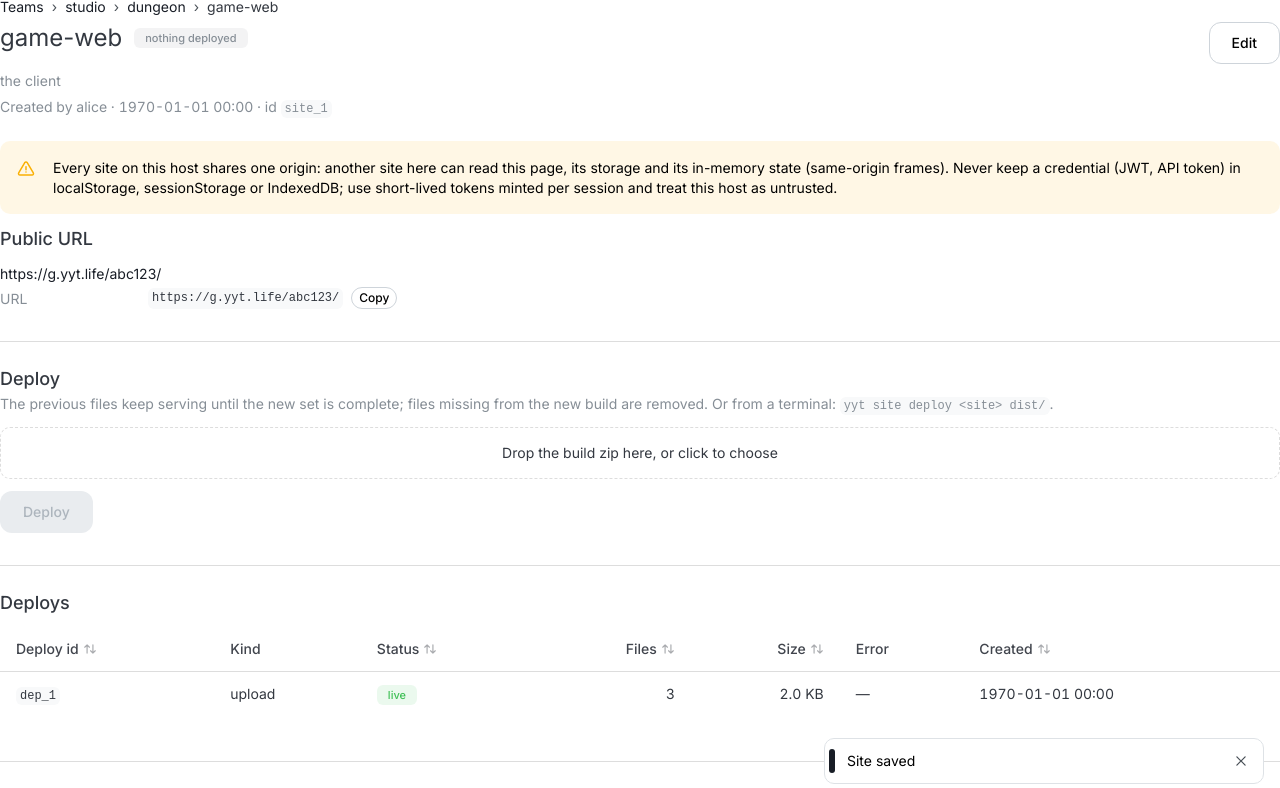
Test: SitePage › deletes from the drawer danger zone after a confirmation and returns to the project's sites
Click the button "Edit" at (1244, 43), box [1209, 22, 1279, 64]
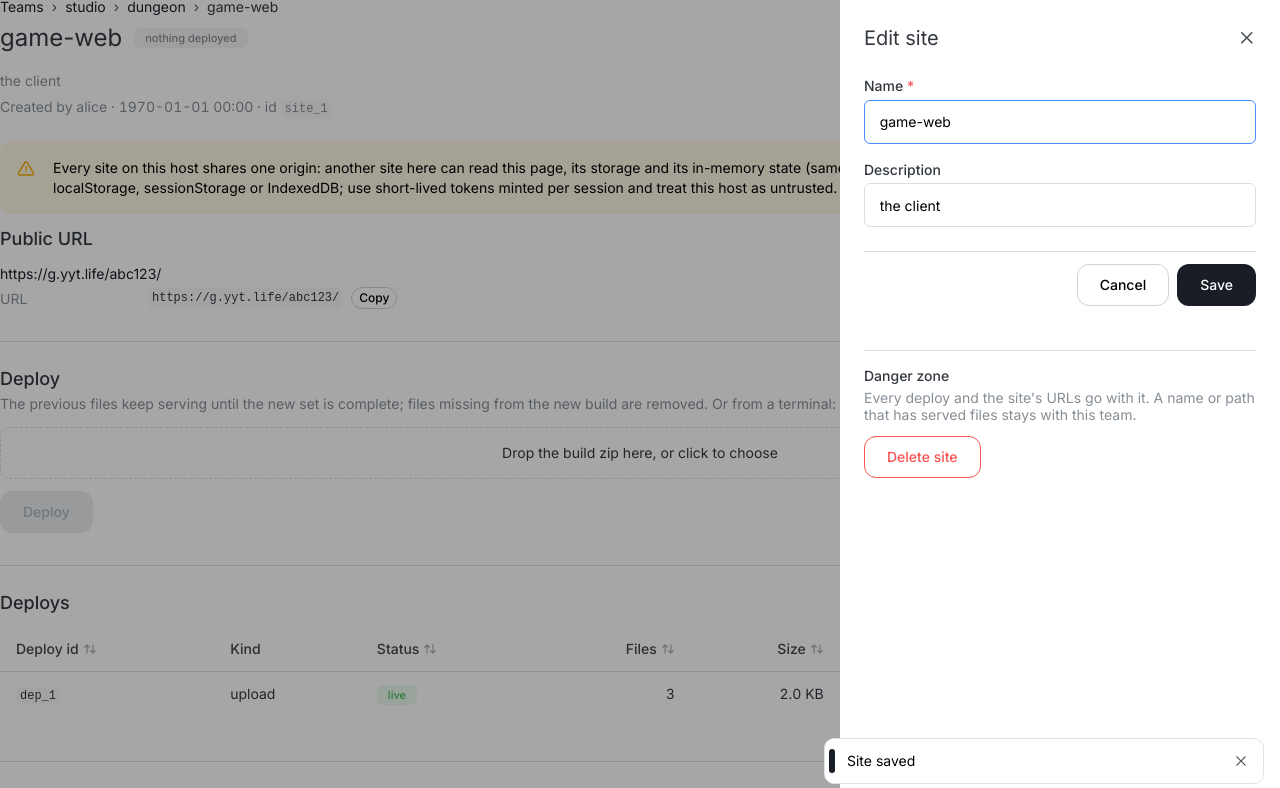
Click the button "Delete site" at (922, 457), box [864, 436, 981, 478]
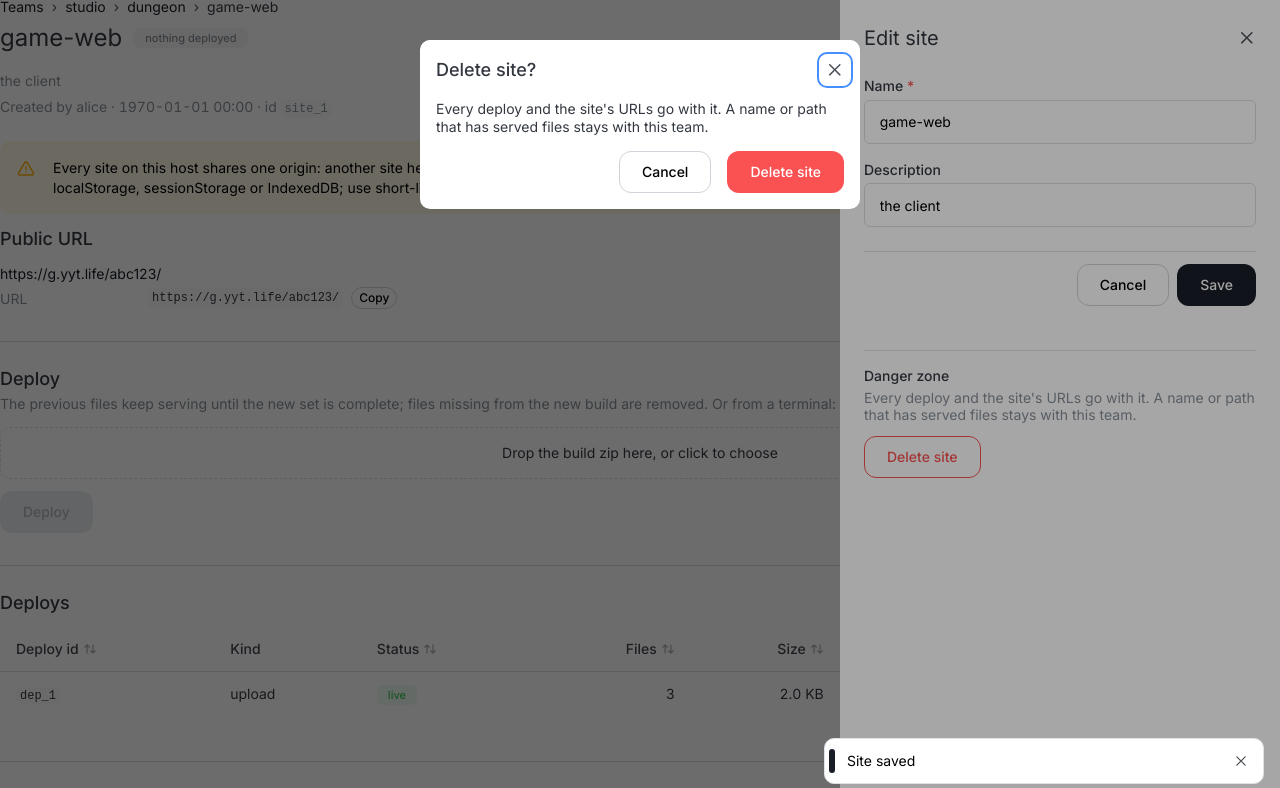
Click the button "Delete site" at (786, 172), box [727, 151, 844, 193]
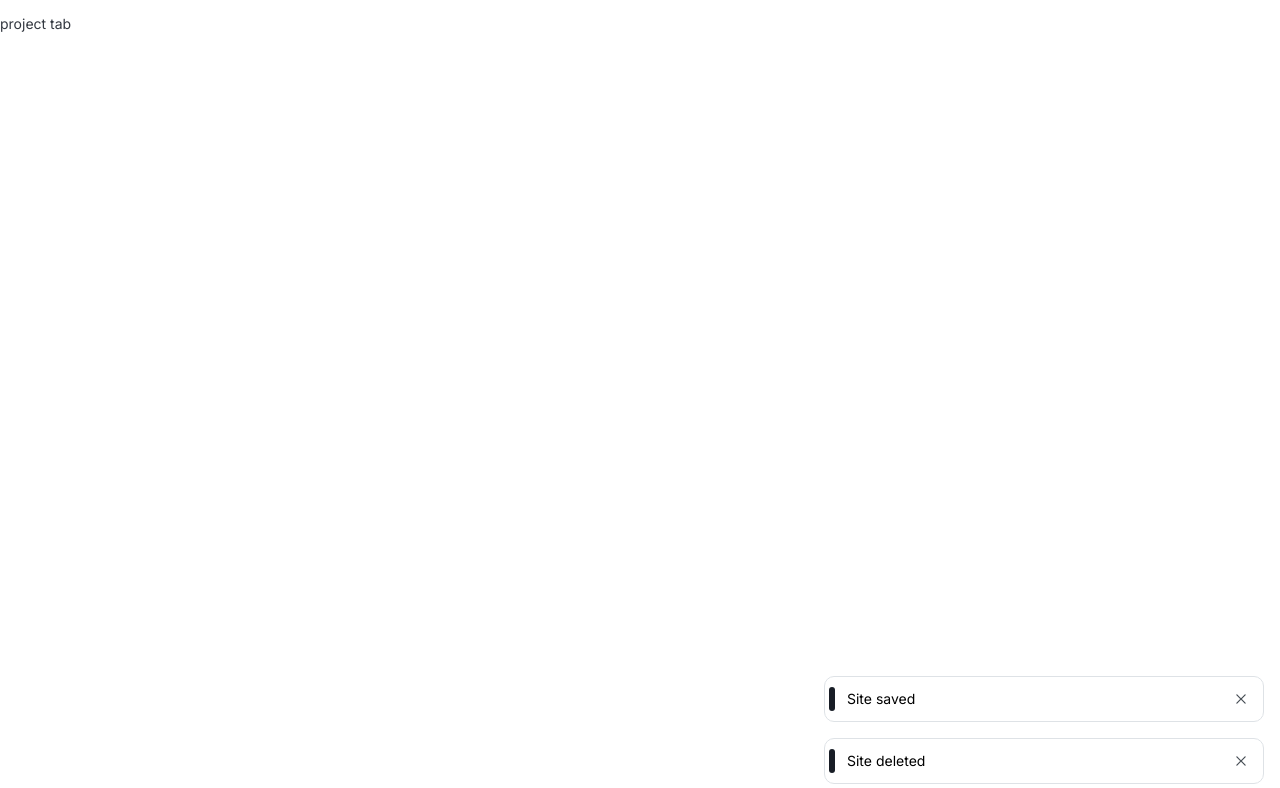
Check: the text "project tab" is shown, box [0, 15, 71, 32]
